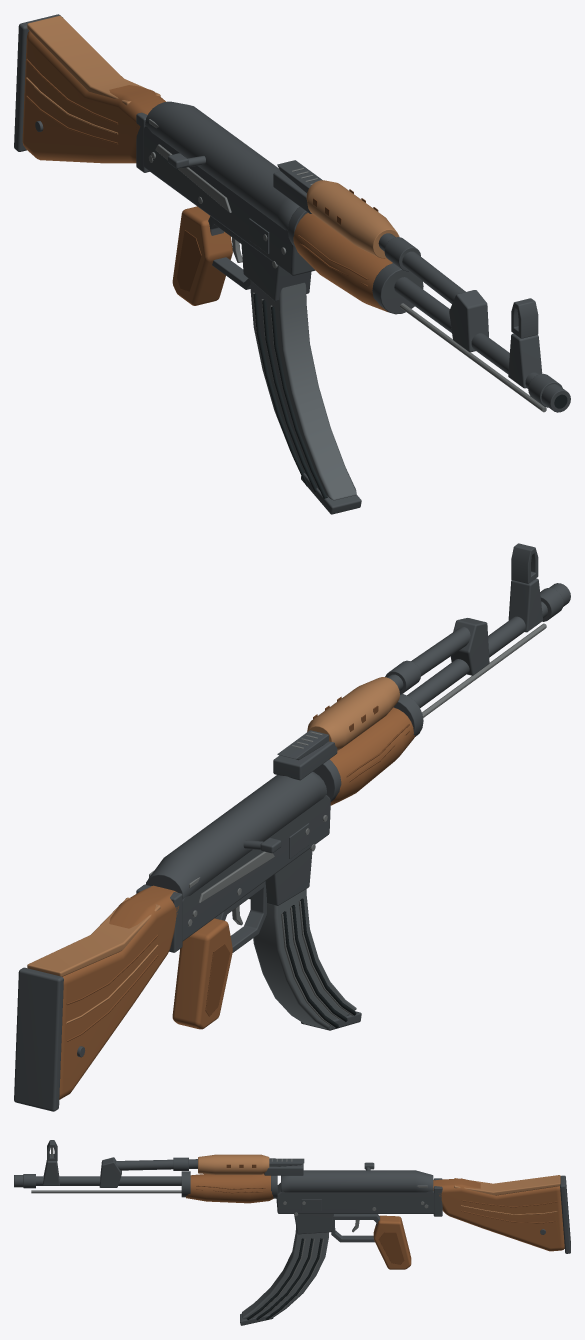
Rendered from KOTM_AK47.glb.
The picture shows the model from 3 angles, top to bottom: view 1: azimuth 30°, elevation 25°; view 2: azimuth 150°, elevation 25°; view 3: azimuth 270°, elevation 25°; orthographic projection. The views are drawn at different scales.
Visible parts, largest first — view 1: AK47Rev__WoodStock, AK47Rev__Magazine, AK47Rev__Receiver_DustCover, AK47Rev__Receiver, AK47Rev__Handguard, AK47Rev__WoodStockTopHighlight, AK47Rev__UpperWoodGuard, AK47Rev__PistolGrip, AK47Rev__Barrel, AK47Rev__MagazineWell, AK47Rev__GasBlock, AK47Rev__GasTube (+15 smaller); view 2: AK47Rev__WoodStock, AK47Rev__Receiver_DustCover, AK47Rev__StockButtplate, AK47Rev__Magazine, AK47Rev__Receiver, AK47Rev__PistolGrip, AK47Rev__Handguard, AK47Rev__UpperWoodGuard, AK47Rev__WoodStockTopHighlight, AK47Rev__Barrel, AK47Rev__MagazineWell, AK47Rev__TriggerGuard (+9 smaller); view 3: AK47Rev__WoodStock, AK47Rev__Receiver_DustCover, AK47Rev__Receiver, AK47Rev__Magazine, AK47Rev__Handguard, AK47Rev__UpperWoodGuard, AK47Rev__Barrel, AK47Rev__WoodStockTopHighlight, AK47Rev__PistolGrip, AK47Rev__MagazineWell, AK47Rev__GasTube, AK47Rev__TriggerGuard (+12 smaller).
Part boxes in pixels (x1=…): AK47Rev__WoodStock: x1=22, y1=31, x2=166, y2=163; AK47Rev__Magazine: x1=250, y1=281, x2=356, y2=500; AK47Rev__Receiver_DustCover: x1=145, y1=101, x2=299, y2=230; AK47Rev__Receiver: x1=144, y1=126, x2=315, y2=275; AK47Rev__Handguard: x1=293, y1=213, x2=392, y2=312; AK47Rev__WoodStockTopHighlight: x1=27, y1=15, x2=160, y2=105; AK47Rev__UpperWoodGuard: x1=306, y1=180, x2=399, y2=258; AK47Rev__PistolGrip: x1=172, y1=206, x2=232, y2=305; AK47Rev__Barrel: x1=394, y1=277, x2=538, y2=388; AK47Rev__MagazineWell: x1=241, y1=238, x2=311, y2=301; AK47Rev__GasBlock: x1=449, y1=290, x2=488, y2=352; AK47Rev__GasTube: x1=378, y1=233, x2=465, y2=303; AK47Rev__WoodStock: x1=59, y1=885, x2=178, y2=1099; AK47Rev__Receiver_DustCover: x1=145, y1=771, x2=326, y2=899; AK47Rev__StockButtplate: x1=14, y1=967, x2=63, y2=1111; AK47Rev__Magazine: x1=253, y1=889, x2=356, y2=1029; AK47Rev__Receiver: x1=172, y1=795, x2=330, y2=941; AK47Rev__PistolGrip: x1=172, y1=918, x2=232, y2=1029; AK47Rev__Handguard: x1=329, y1=707, x2=415, y2=805; AK47Rev__UpperWoodGuard: x1=307, y1=677, x2=399, y2=750; AK47Rev__WoodStockTopHighlight: x1=27, y1=897, x2=160, y2=976; AK47Rev__Barrel: x1=407, y1=601, x2=547, y2=707; AK47Rev__MagazineWell: x1=249, y1=849, x2=312, y2=905; AK47Rev__TriggerGuard: x1=215, y1=881, x2=266, y2=952; AK47Rev__WoodStock: x1=433, y1=1178, x2=564, y2=1251; AK47Rev__Receiver_DustCover: x1=281, y1=1170, x2=433, y2=1192; AK47Rev__Receiver: x1=276, y1=1182, x2=434, y2=1213; AK47Rev__Magazine: x1=242, y1=1226, x2=328, y2=1318; AK47Rev__Handguard: x1=186, y1=1174, x2=273, y2=1203; AK47Rev__UpperWoodGuard: x1=198, y1=1154, x2=269, y2=1174; AK47Rev__Barrel: x1=36, y1=1176, x2=181, y2=1185; AK47Rev__WoodStockTopHighlight: x1=454, y1=1175, x2=560, y2=1195; AK47Rev__PistolGrip: x1=373, y1=1215, x2=411, y2=1269; AK47Rev__MagazineWell: x1=294, y1=1214, x2=333, y2=1234; AK47Rev__GasTube: x1=115, y1=1159, x2=197, y2=1170; AK47Rev__TriggerGuard: x1=331, y1=1214, x2=379, y2=1242.
Bounding box in the file's own units: 0.0991 × 0.4071 × 1.14.
